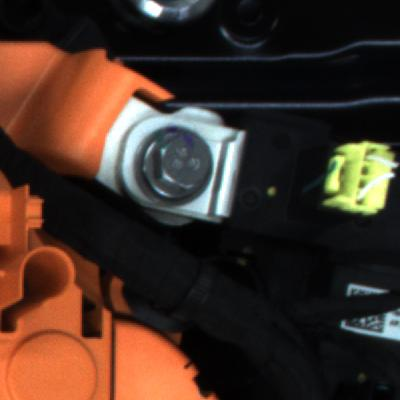nut_b: (132, 121, 216, 212)
